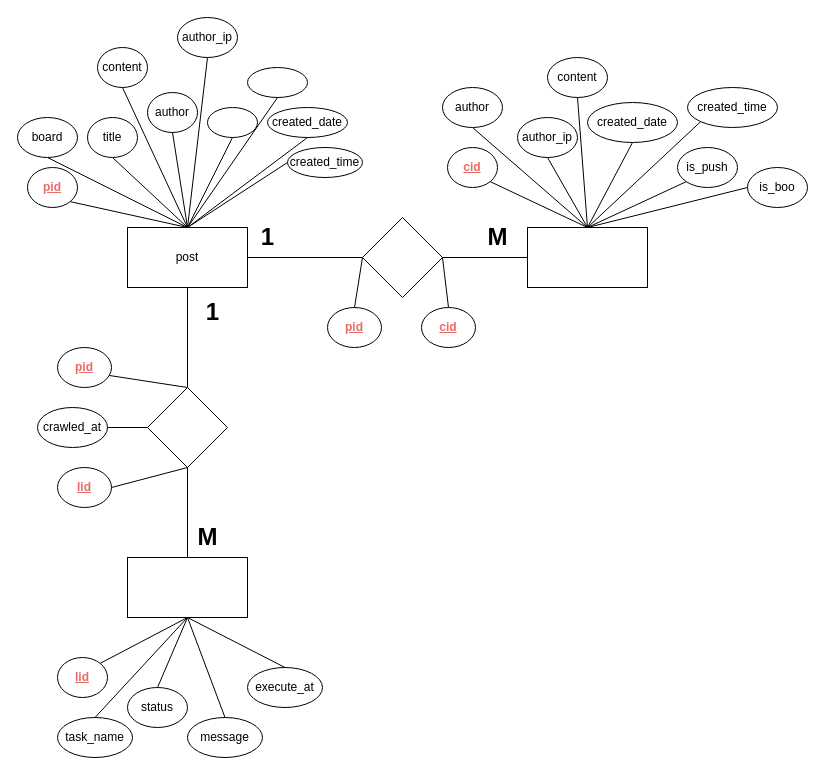
The diagram is 825 pixels wide and 775 high, and some of its shapes have lost their labels. The centre of each missing label's shape, as x and y in pixels:
"comment" belongs at (x=587, y=257).
"location" belongs at (x=277, y=82).
"logs" belongs at (x=187, y=587).
"PC" belongs at (x=402, y=257).
"PL" belongs at (x=187, y=427).
"url" belongs at (x=232, y=122).
